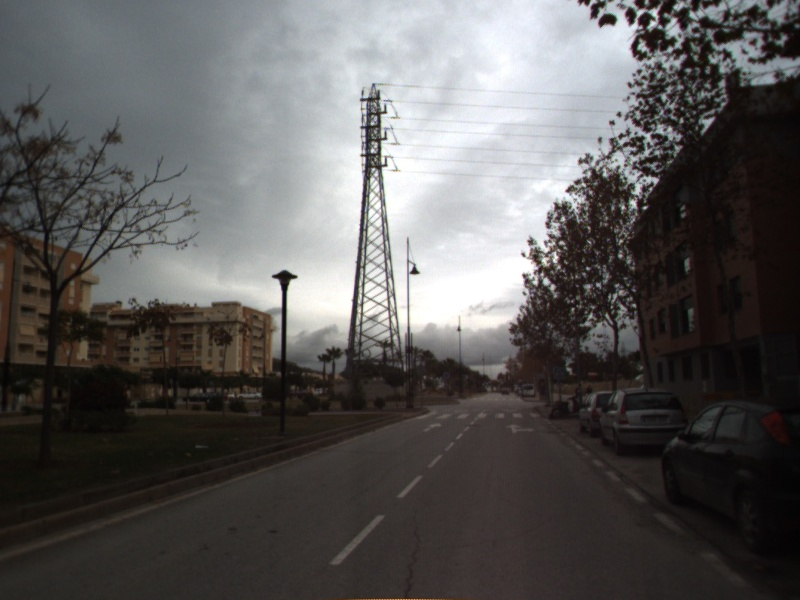STRAIGHT: (420, 420, 444, 434)
STRAIGHT_RIGHT: (504, 421, 538, 435)
